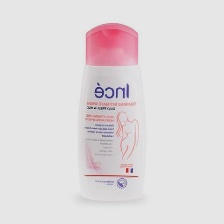bottle: (75, 18, 150, 204)
